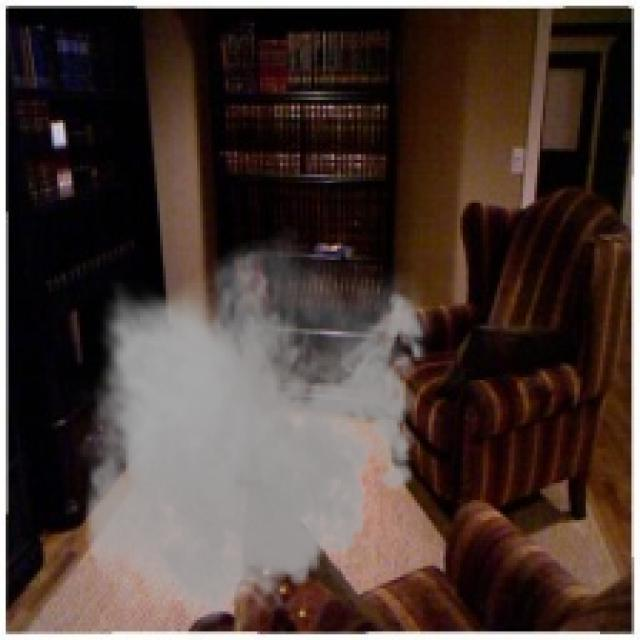Smoke: (71, 225, 440, 638)
